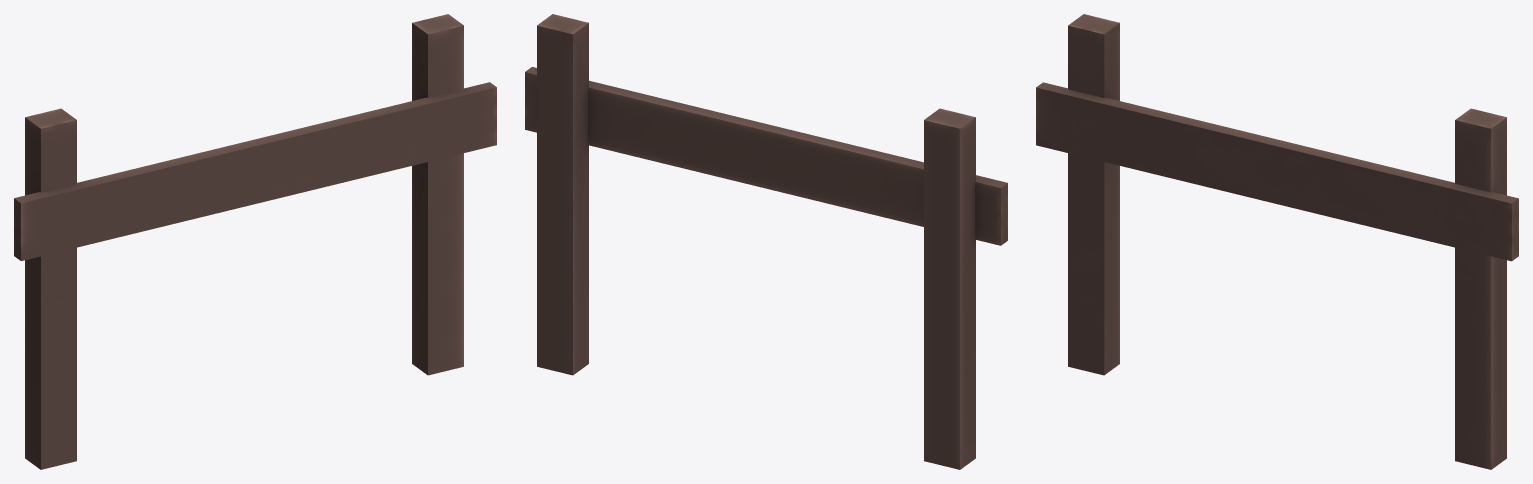
The model's file is Fence_2.fbx.
The picture shows the model from 3 angles, left to right: view 1: azimuth 30°, elevation 25°; view 2: azimuth 150°, elevation 25°; view 3: azimuth 330°, elevation 25°; orthographic projection.
Parts seen in each view (by area): view 1: Fence_2; view 2: Fence_2; view 3: Fence_2.
Boxes of the visible parts, bbox=[...] form: Fence_2: bbox=[14, 14, 496, 469]; Fence_2: bbox=[525, 14, 1007, 469]; Fence_2: bbox=[1036, 14, 1518, 469].
Size of the model in its own units: 59.83 by 40.98 by 4.78.
